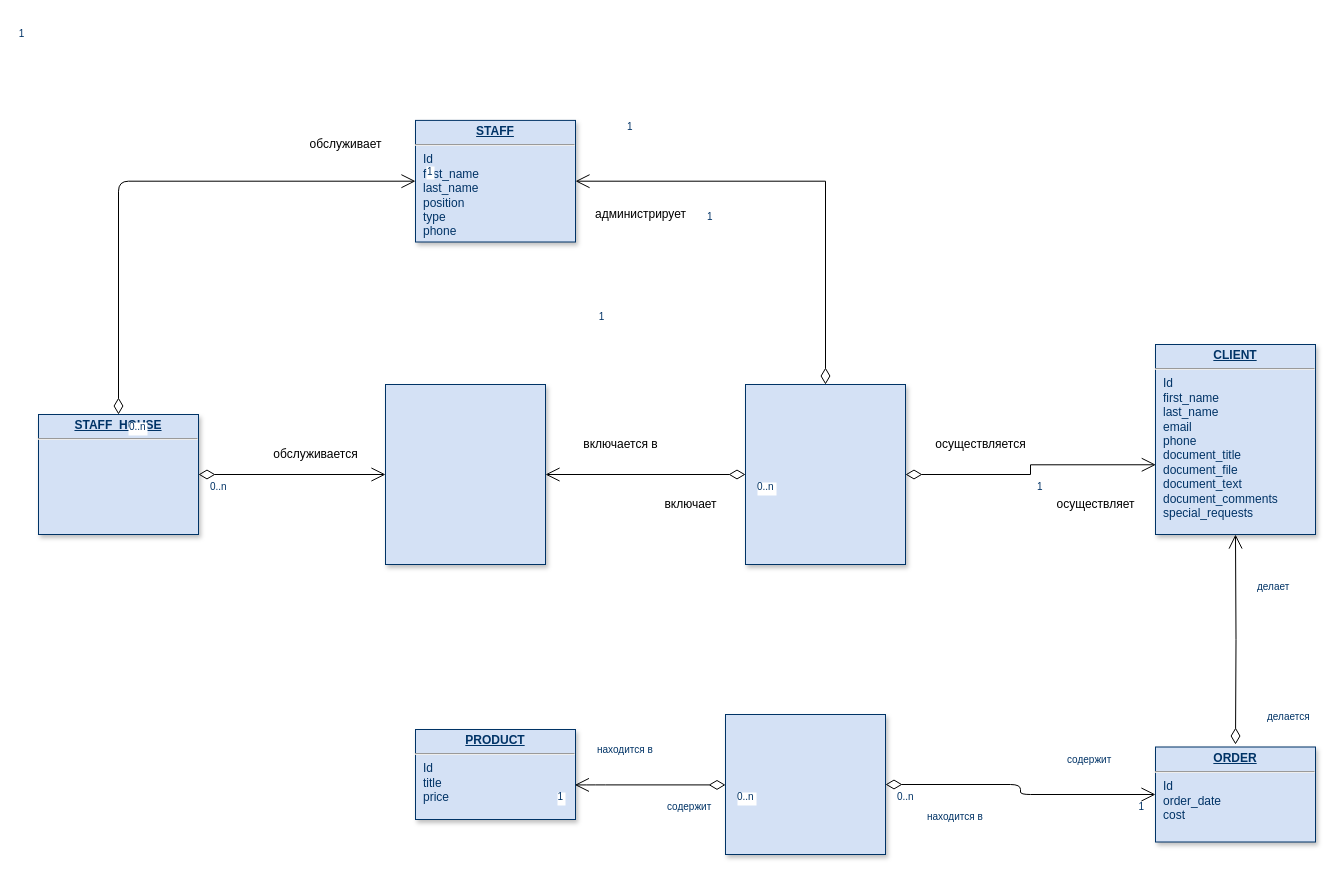
The diagram is 1339 pixels wide and 880 high, and some of its shapes have lost their labels. The centre of each missing label's shape, as x and y in pixels:
BOOKING id date_in date_out cost: (x=826, y=476)
HOUSE id name price ac tv safe description type: (x=466, y=476)
PRODUCT_COUNT count: (x=806, y=786)
